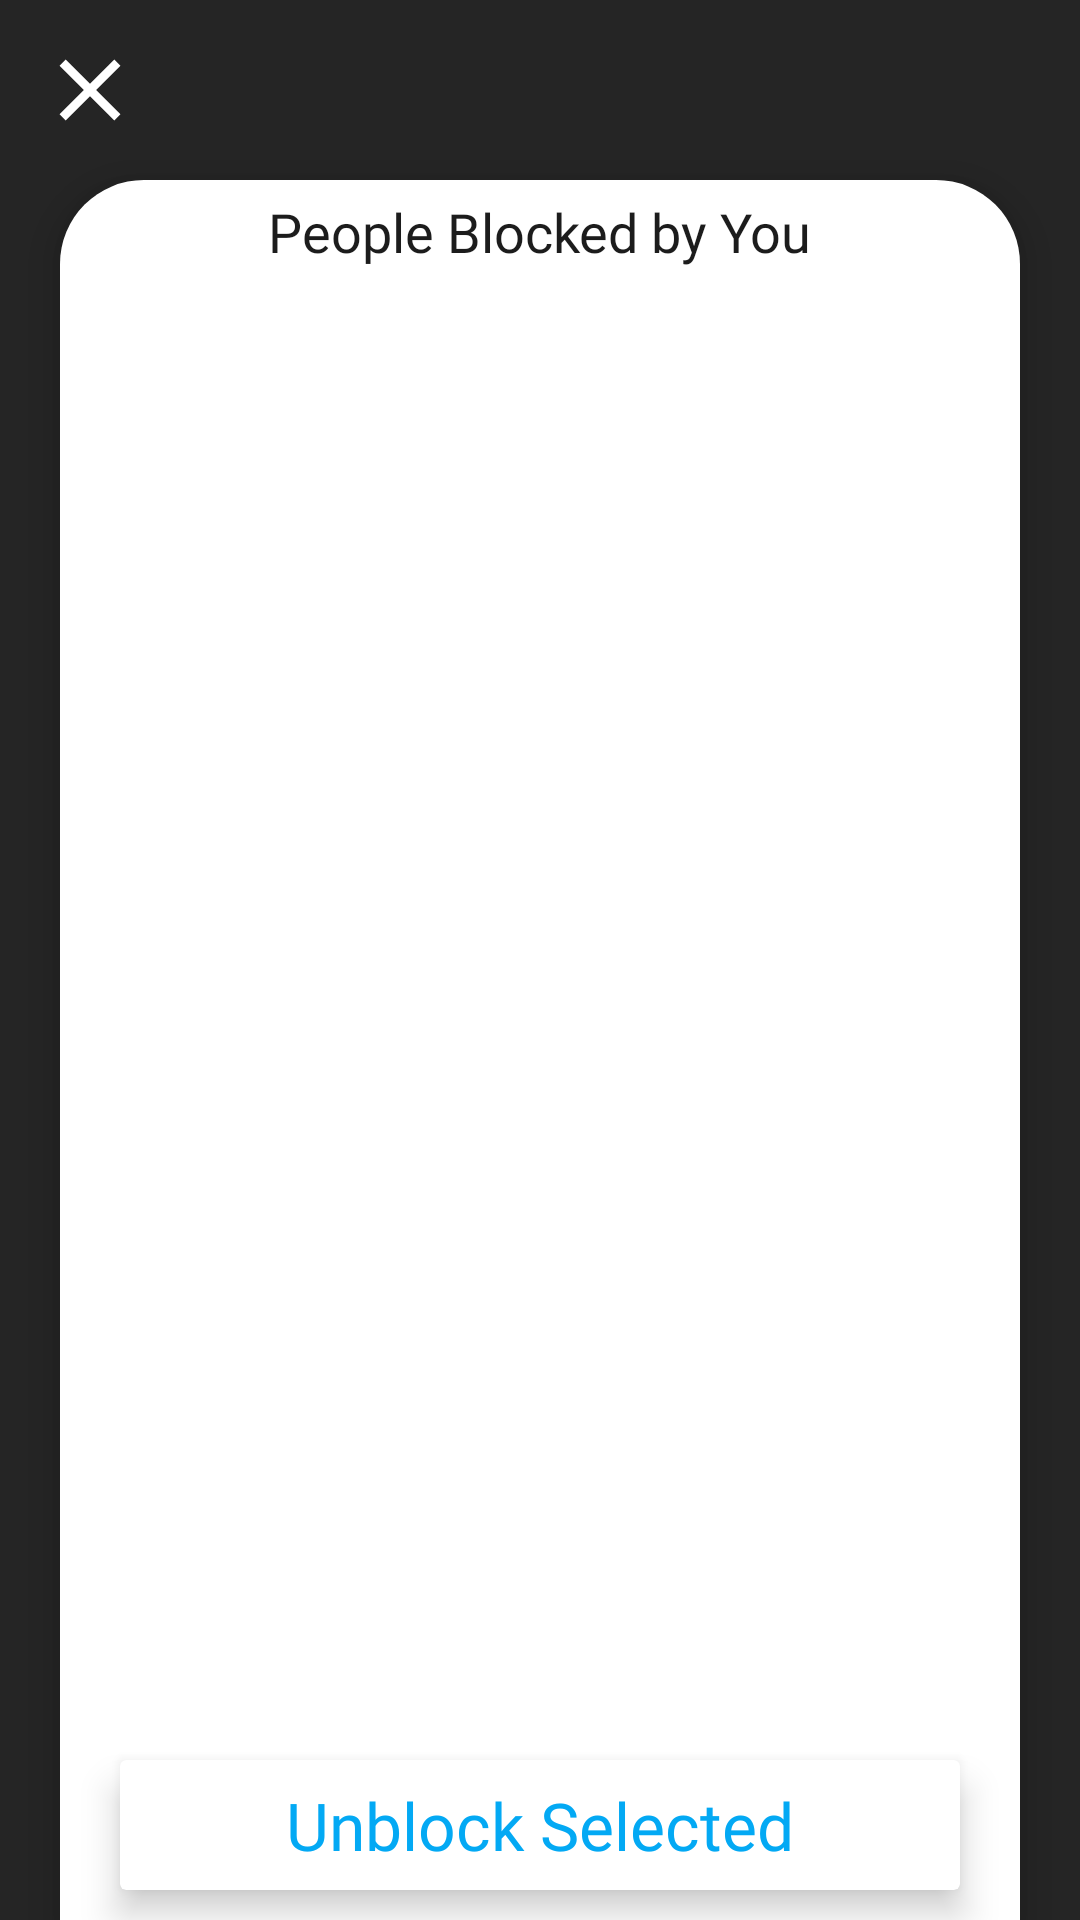

Screen size 1080 × 1920. Icon name, then its center in pixels as point (x, y):
close: point (90, 90)
